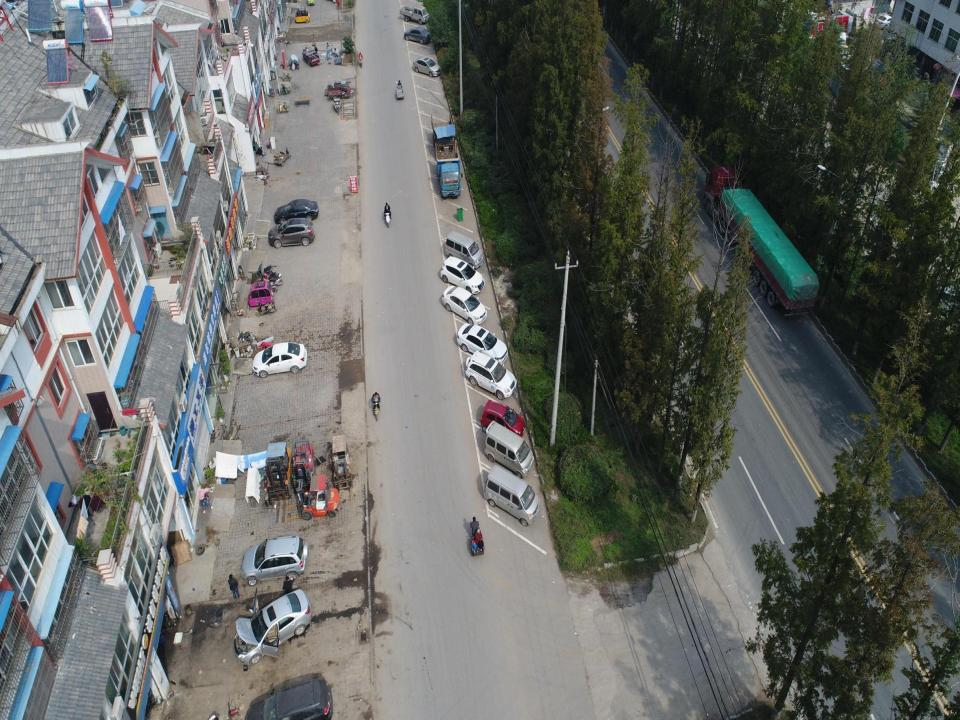car: (232, 588, 312, 668), (244, 678, 334, 720), (239, 536, 310, 586), (466, 350, 518, 400), (456, 322, 508, 368), (252, 340, 309, 378), (480, 397, 526, 440), (441, 284, 488, 326), (439, 255, 485, 295), (268, 218, 315, 249), (272, 197, 320, 223), (411, 55, 442, 79), (403, 25, 432, 44)
truck: (703, 161, 821, 317), (429, 113, 463, 199), (399, 2, 430, 24)
van: (484, 465, 540, 527), (483, 420, 534, 479), (444, 230, 484, 272)
